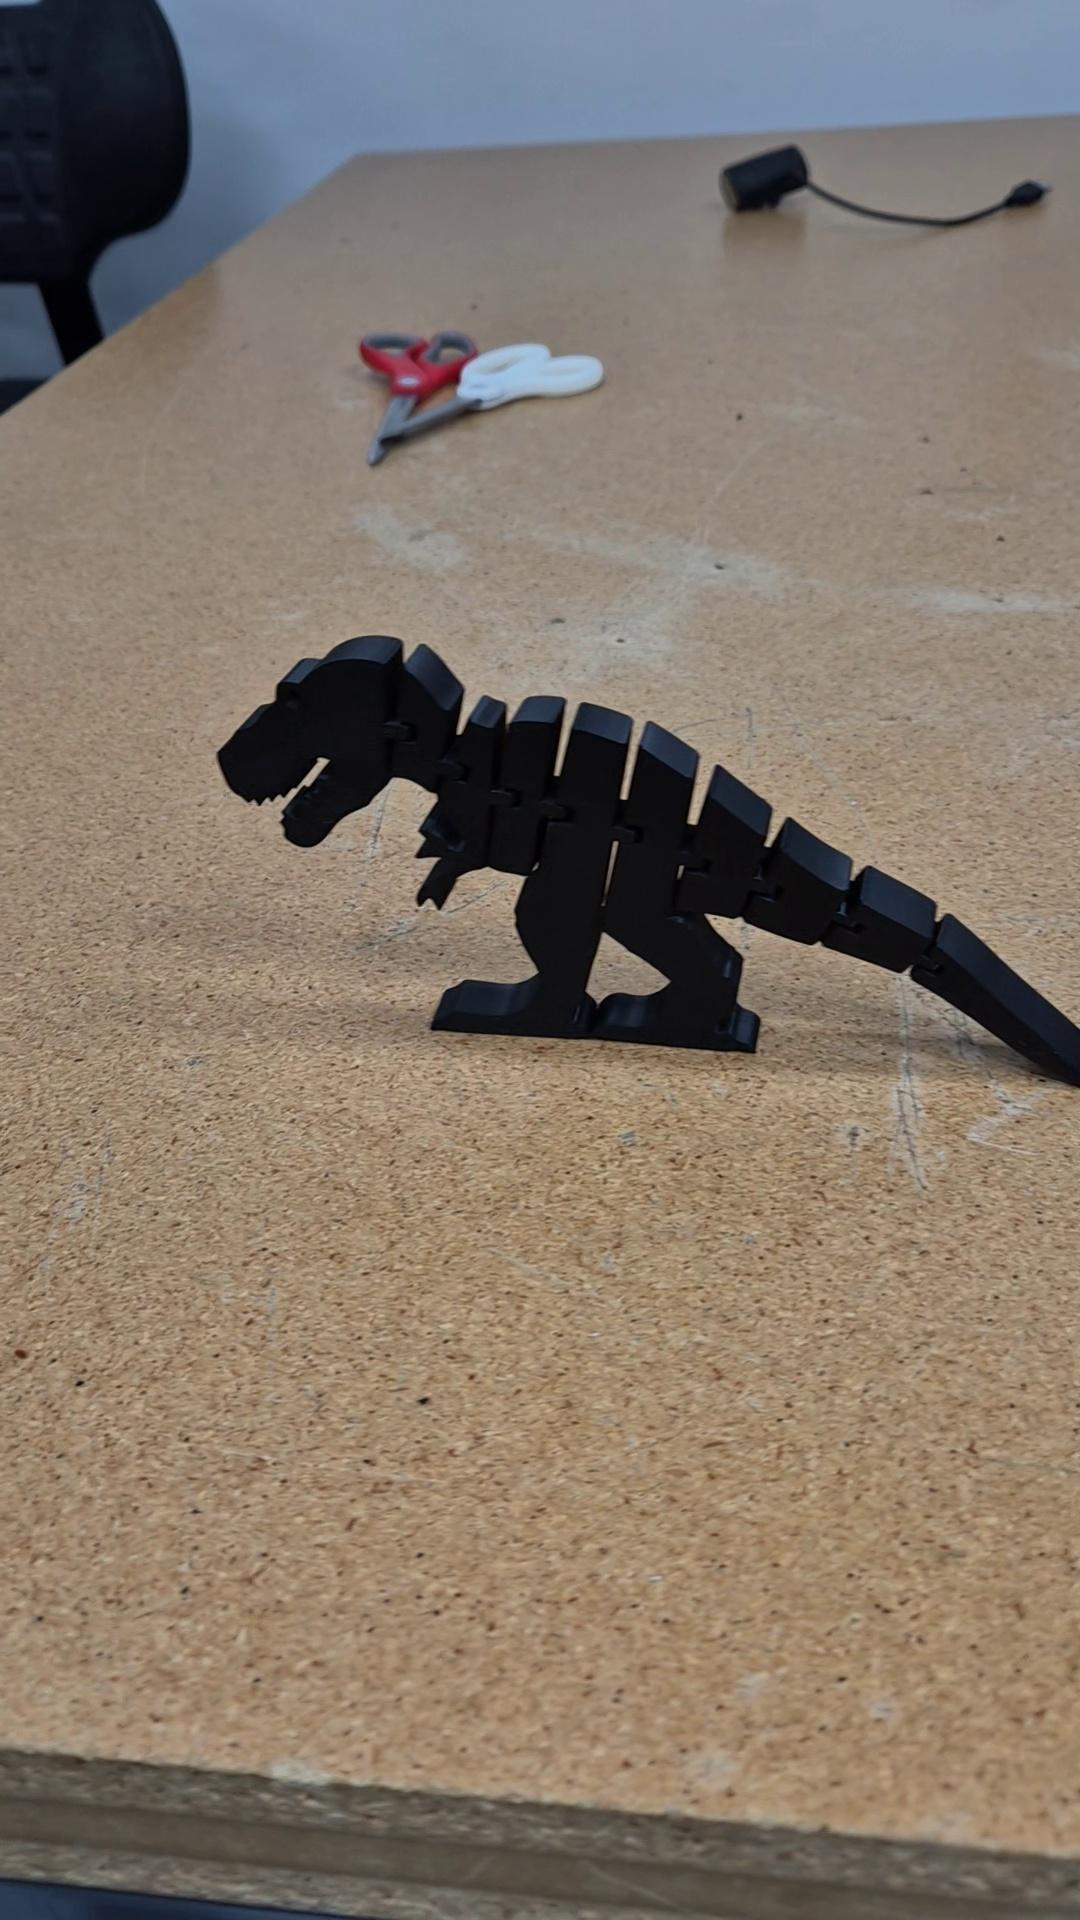dinosaur: (212, 630, 1080, 1095)
